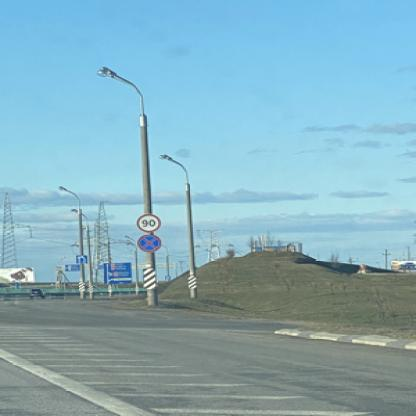Speed Limit 90: (136, 213, 162, 231)
